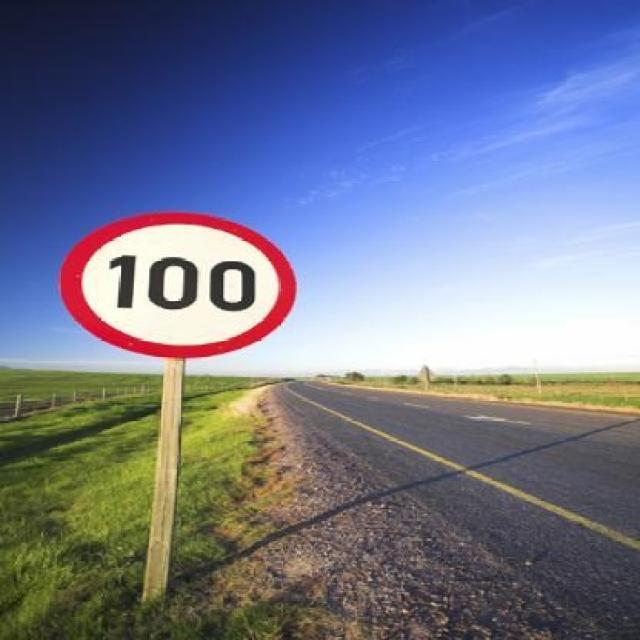forb_speed_over_100: (63, 217, 295, 355)
